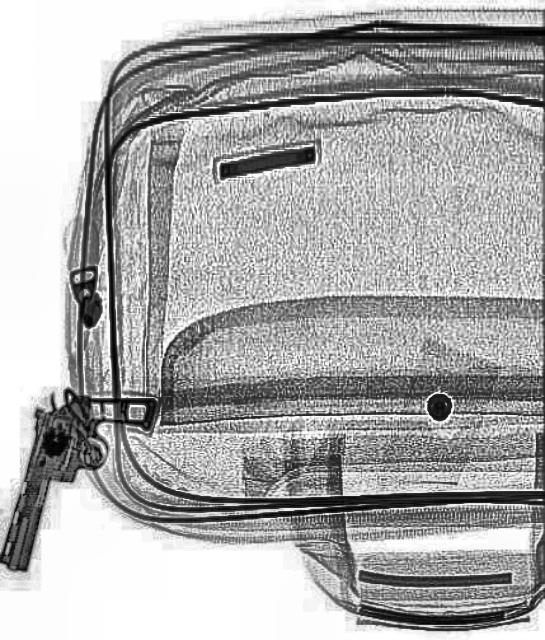Gun: (0, 367, 152, 583)
